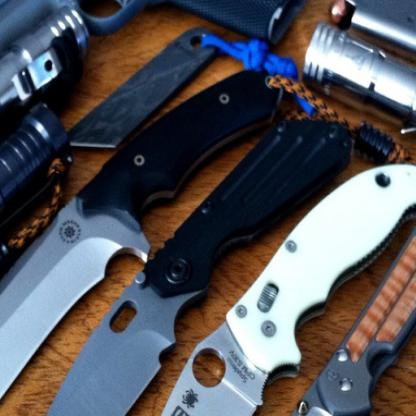knife: (13, 118, 358, 415), (0, 66, 287, 415), (116, 167, 415, 415), (204, 197, 415, 415)
